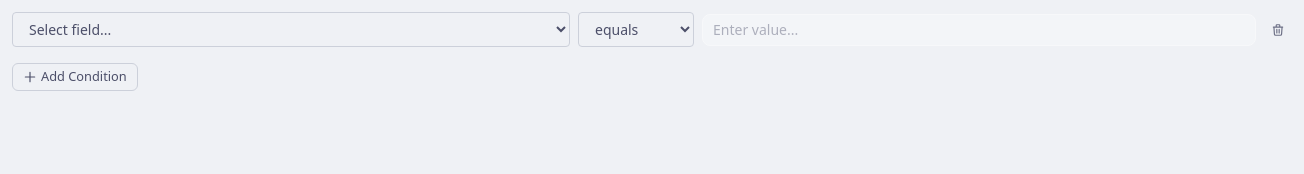
QueryBuilder › clear all › shows clear all button when query is valid
# Set up a condition
Select "Tss" in the 1st dropdown at coordinates (291, 30), box [12, 12, 570, 47]
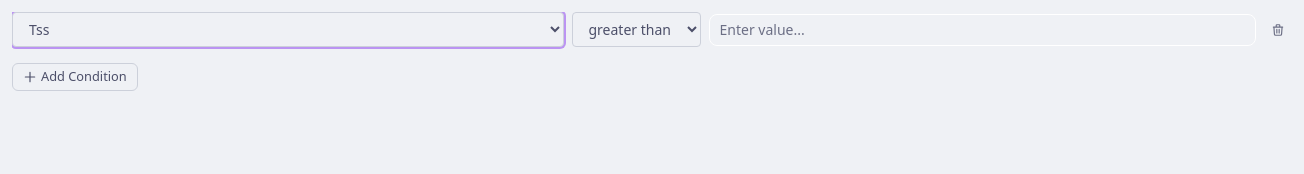
Type "100" into the field with placeholder "Enter value..." at coordinates (982, 30), box [708, 14, 1256, 46]
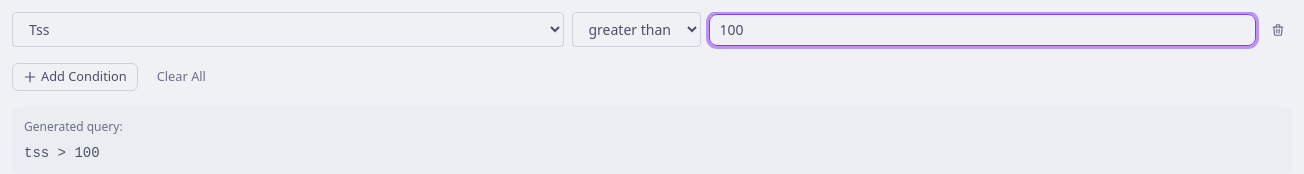
Result: the button "Clear All" is shown at [146, 63, 217, 91]
